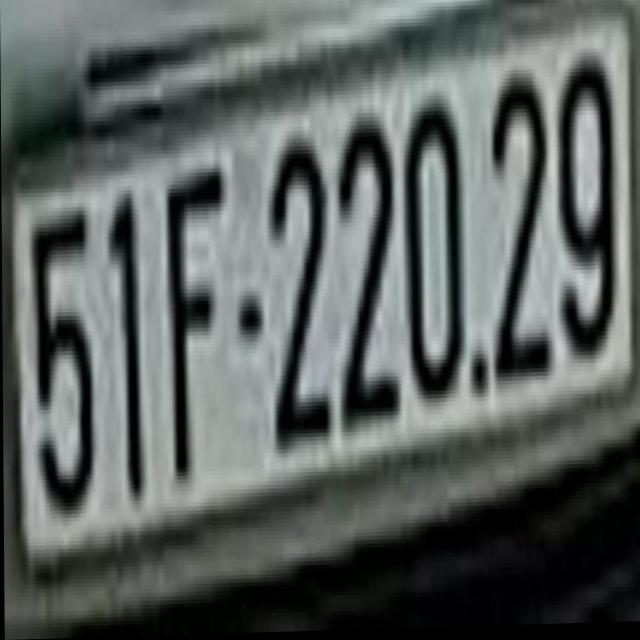0: (402, 90, 466, 410)
1: (104, 163, 150, 494)
2: (268, 116, 329, 452), (491, 65, 555, 380), (336, 103, 396, 427)
5: (31, 203, 94, 519)
9: (557, 36, 622, 379)
F: (162, 169, 228, 481)
